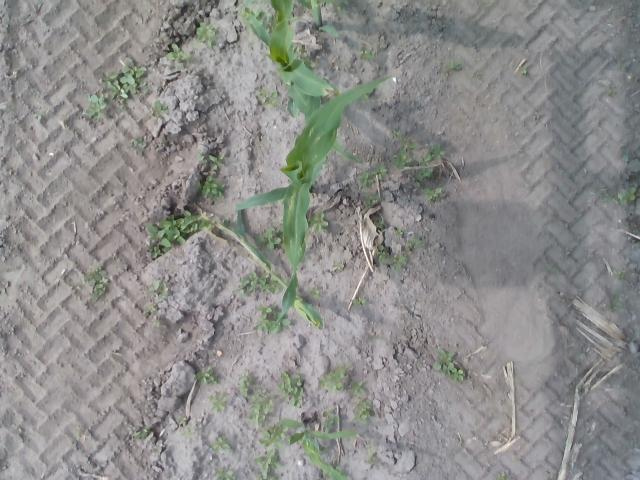Maize: (236, 74, 389, 332), (242, 0, 362, 165), (211, 210, 323, 329), (281, 416, 359, 480), (298, 0, 351, 39)
Weeds: (144, 208, 216, 260), (102, 61, 148, 103), (196, 150, 228, 199), (238, 272, 284, 300), (244, 388, 273, 430), (432, 346, 464, 384), (252, 304, 292, 334), (316, 362, 352, 394), (251, 446, 283, 480), (279, 370, 306, 410), (82, 264, 110, 302), (390, 129, 416, 168), (358, 160, 388, 188), (256, 222, 284, 250), (80, 90, 106, 119), (352, 398, 376, 426), (195, 20, 218, 48), (260, 425, 290, 446), (166, 42, 195, 63), (208, 390, 228, 416), (238, 370, 254, 402), (257, 86, 280, 108), (309, 212, 330, 234), (196, 366, 219, 386), (414, 160, 433, 183), (240, 6, 264, 24), (322, 408, 340, 432), (425, 142, 445, 162), (148, 280, 170, 298), (214, 464, 238, 480), (406, 233, 426, 251), (422, 186, 444, 202), (210, 436, 232, 452), (364, 444, 380, 465), (350, 380, 370, 396), (618, 188, 637, 204), (610, 294, 624, 315), (152, 100, 170, 116), (376, 244, 389, 266), (394, 250, 407, 271), (599, 188, 616, 204), (363, 191, 381, 206), (179, 427, 200, 439), (445, 59, 464, 72), (143, 301, 157, 318), (360, 46, 374, 63), (130, 136, 148, 149), (308, 285, 322, 301), (612, 266, 626, 280), (620, 146, 630, 164), (295, 44, 307, 57), (304, 57, 316, 70), (352, 297, 368, 306), (331, 260, 344, 271), (616, 58, 626, 72), (604, 81, 614, 95), (136, 430, 150, 439), (177, 415, 188, 426), (375, 219, 385, 231), (494, 470, 506, 480), (76, 426, 85, 438), (394, 228, 404, 238), (520, 66, 528, 76), (362, 94, 370, 102)
